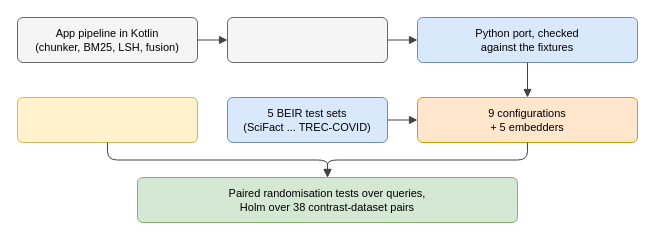
Image size: 655x240. Some labels were removed from this diagram. Here are the shapes that lost their labels. From the top down, the centre of each, then its label:
At pixel 307 39: "JVM tests write reference fixtures".
At pixel 107 119: "Analysis plan committed before any result".
